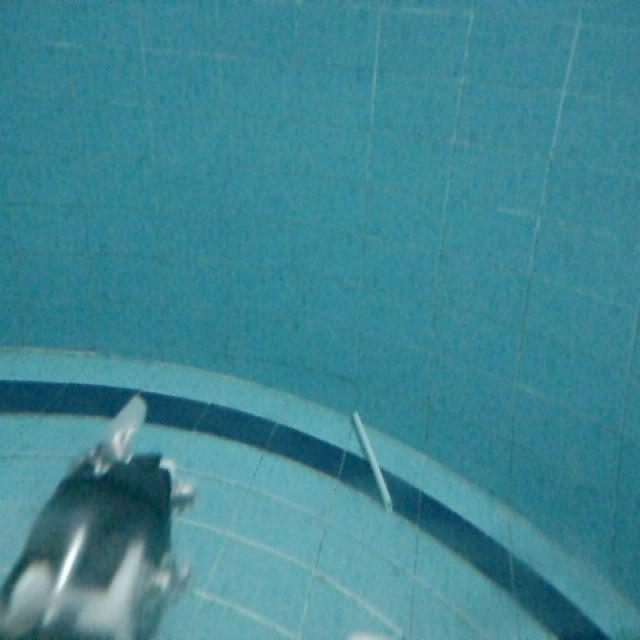Cube: (348, 408, 400, 521)
